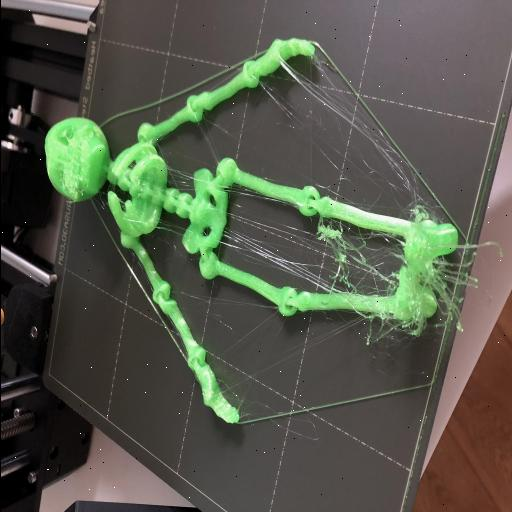stringing: (279, 38, 440, 221), (238, 213, 398, 292), (222, 228, 342, 289), (413, 253, 490, 339), (165, 166, 194, 195)
